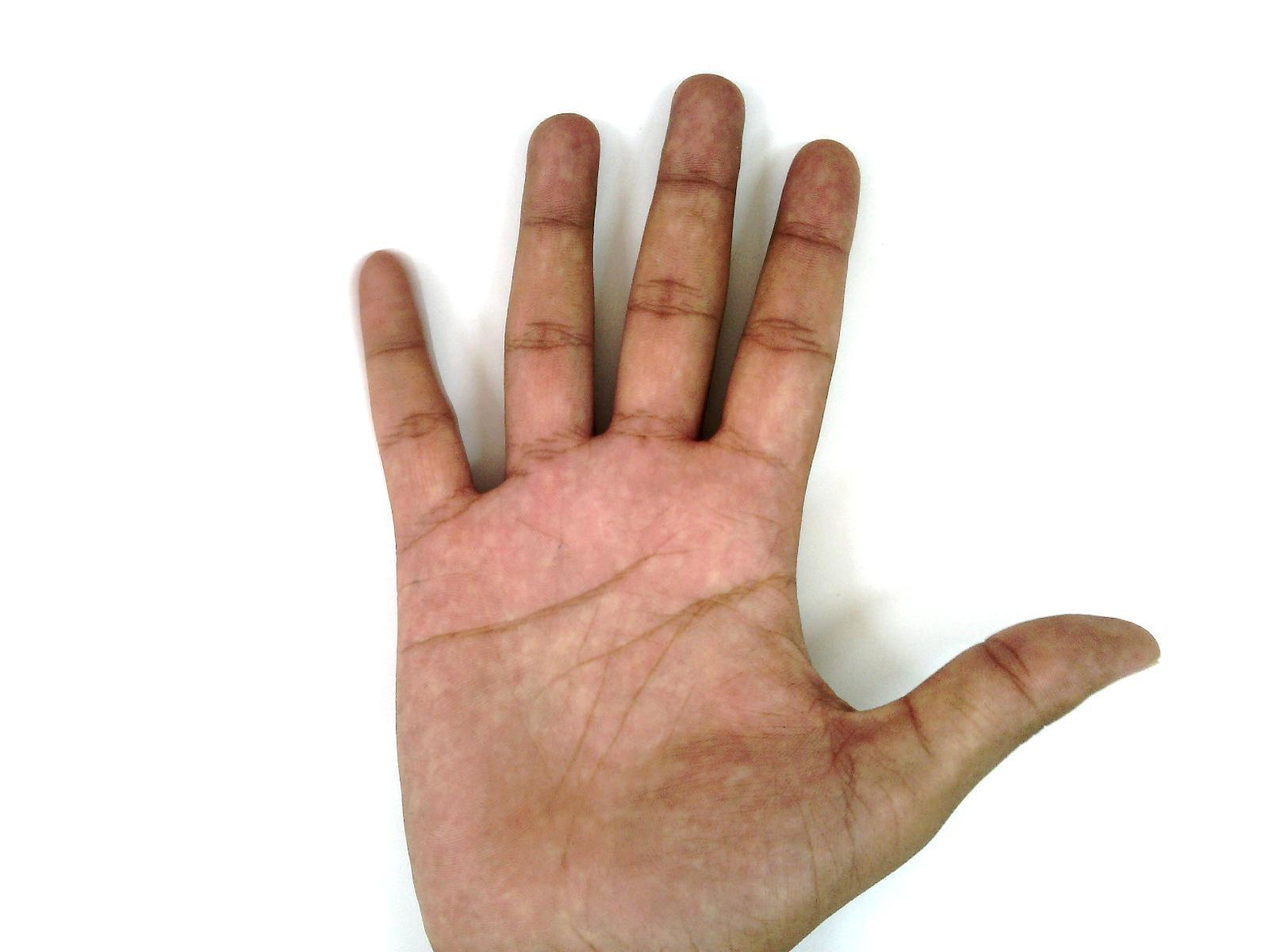open_palm: (351, 72, 1163, 951)
